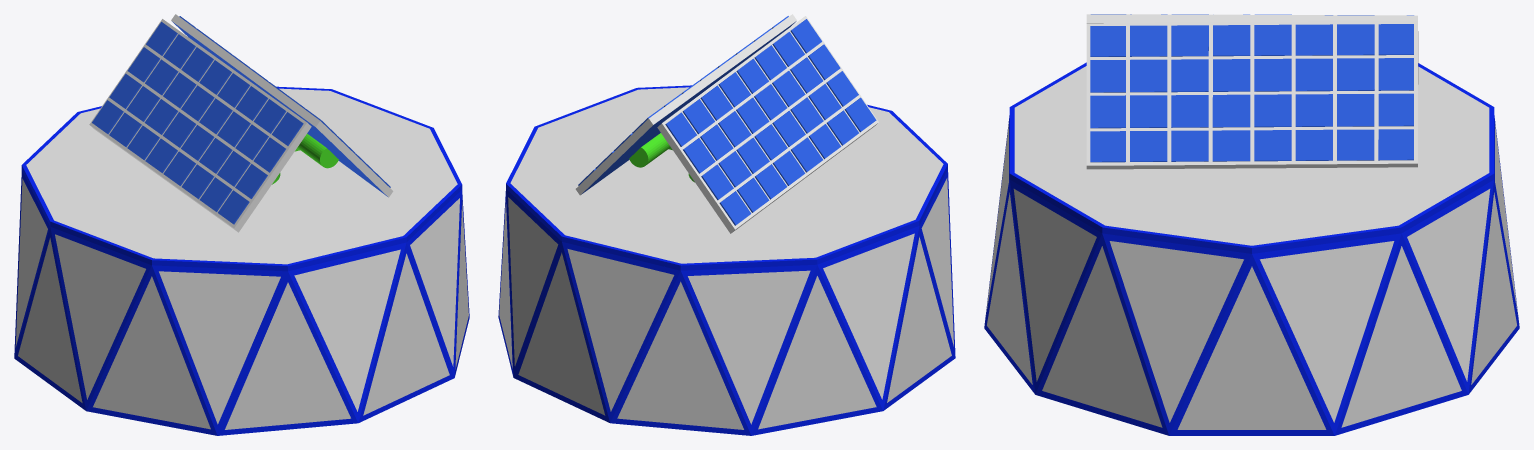
The model's file is solar_panel.fbx.
The picture shows the model from 3 angles, left to right: view 1: azimuth 30°, elevation 25°; view 2: azimuth 150°, elevation 25°; view 3: azimuth 270°, elevation 25°; orthographic projection. The views are drawn at different scales.
Parts seen in each view (by area): view 1: Base, Top, Cylinder; view 2: Base, Top, Cylinder; view 3: Base, Cylinder, Top.
Part boxes in pixels (x1,y1,x2,y2): Base: [14, 170, 469, 435]; Top: [21, 86, 462, 271]; Cylinder: [89, 14, 393, 232]; Base: [498, 170, 955, 435]; Top: [506, 85, 947, 270]; Cylinder: [575, 14, 878, 233]; Base: [984, 115, 1519, 435]; Cylinder: [1086, 14, 1418, 169]; Top: [1009, 62, 1494, 253].
Bounding box in the file's own units: 576 × 388 × 606.
